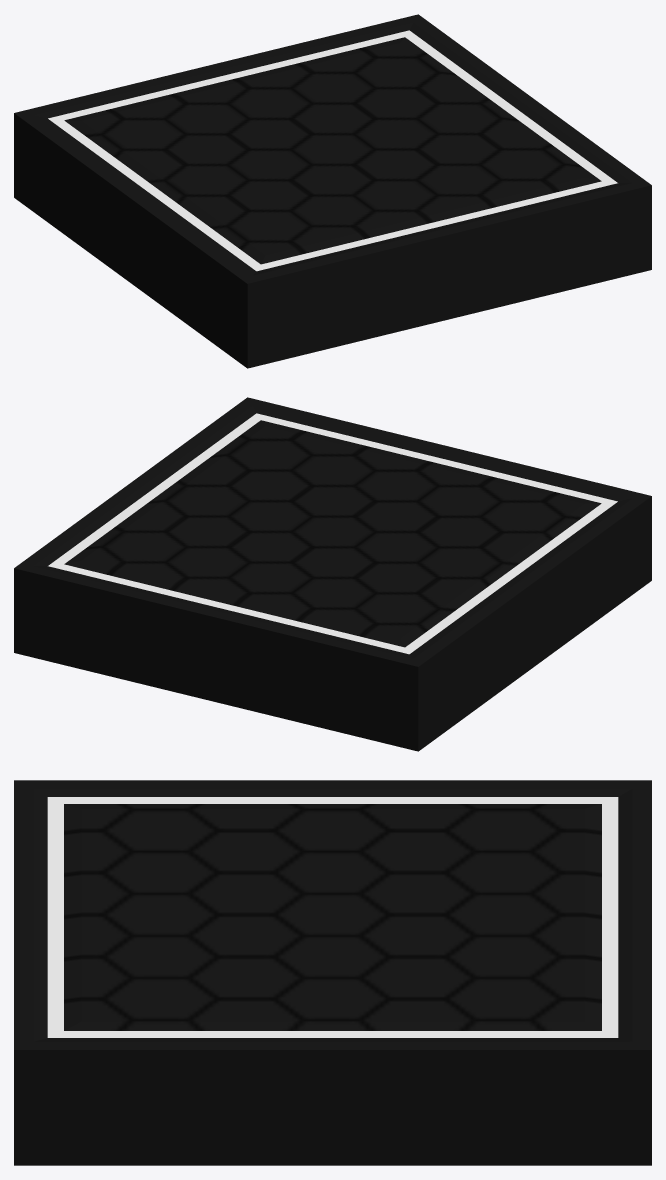
File: Tile 1E5.fbx
3 renders of one model, top to bottom at view 1: azimuth 30°, elevation 25°; view 2: azimuth 150°, elevation 25°; view 3: azimuth 270°, elevation 25°, orthographic. The views are drawn at different scales.
Visible parts, largest first — view 1: pCube163; view 2: pCube163; view 3: pCube163.
Boxes of the visible parts, left/top/right/bottom form: pCube163: left=14, top=14, right=651, bottom=368; pCube163: left=14, top=397, right=651, bottom=751; pCube163: left=14, top=780, right=651, bottom=1165.
Bounding box in the file's own units: 5 × 1 × 5.
